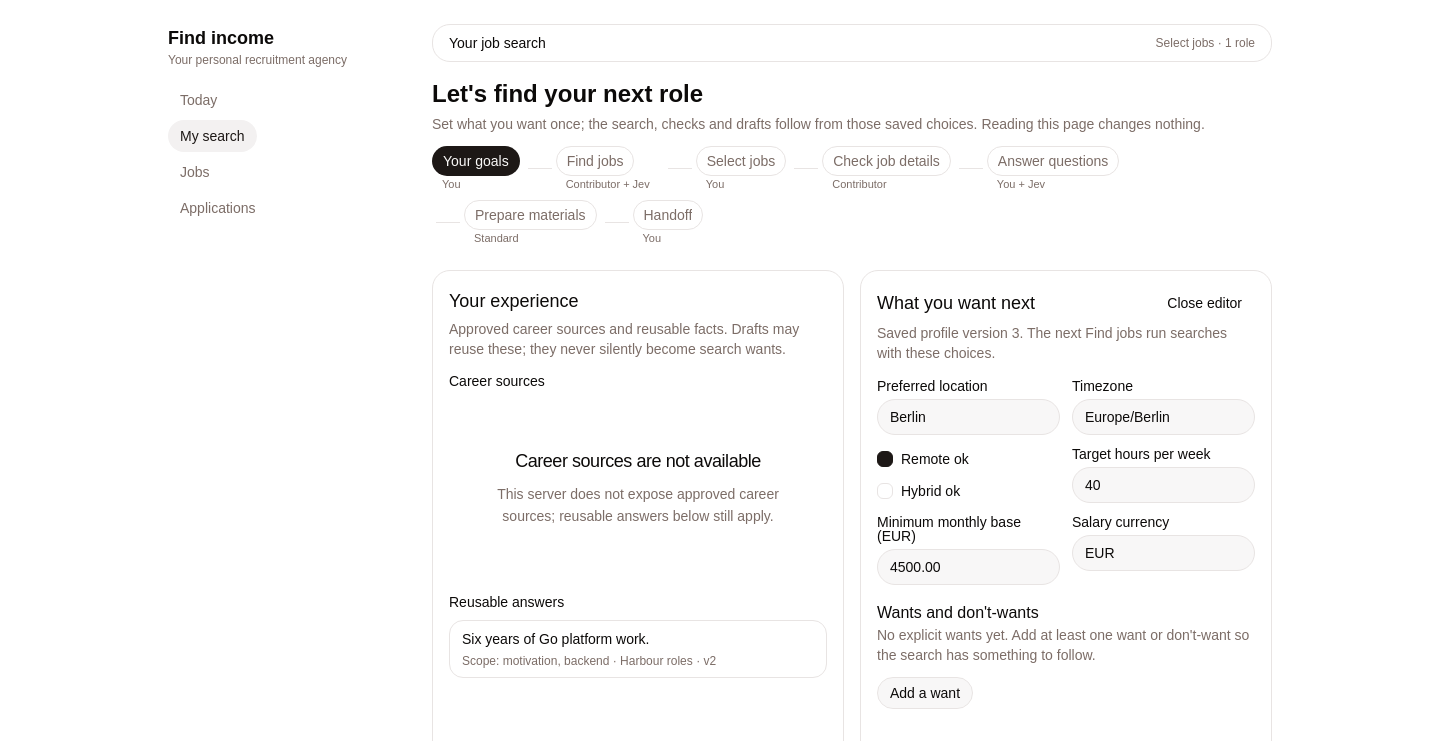
goals form and experience (B2) › adds a don't-want without retyping experience
Expected: the text "Six years of Go platform work." is shown, left=462, top=631, right=650, bottom=647
Click the button "Add a want".
click(925, 692)  # box left=877, top=676, right=973, bottom=708
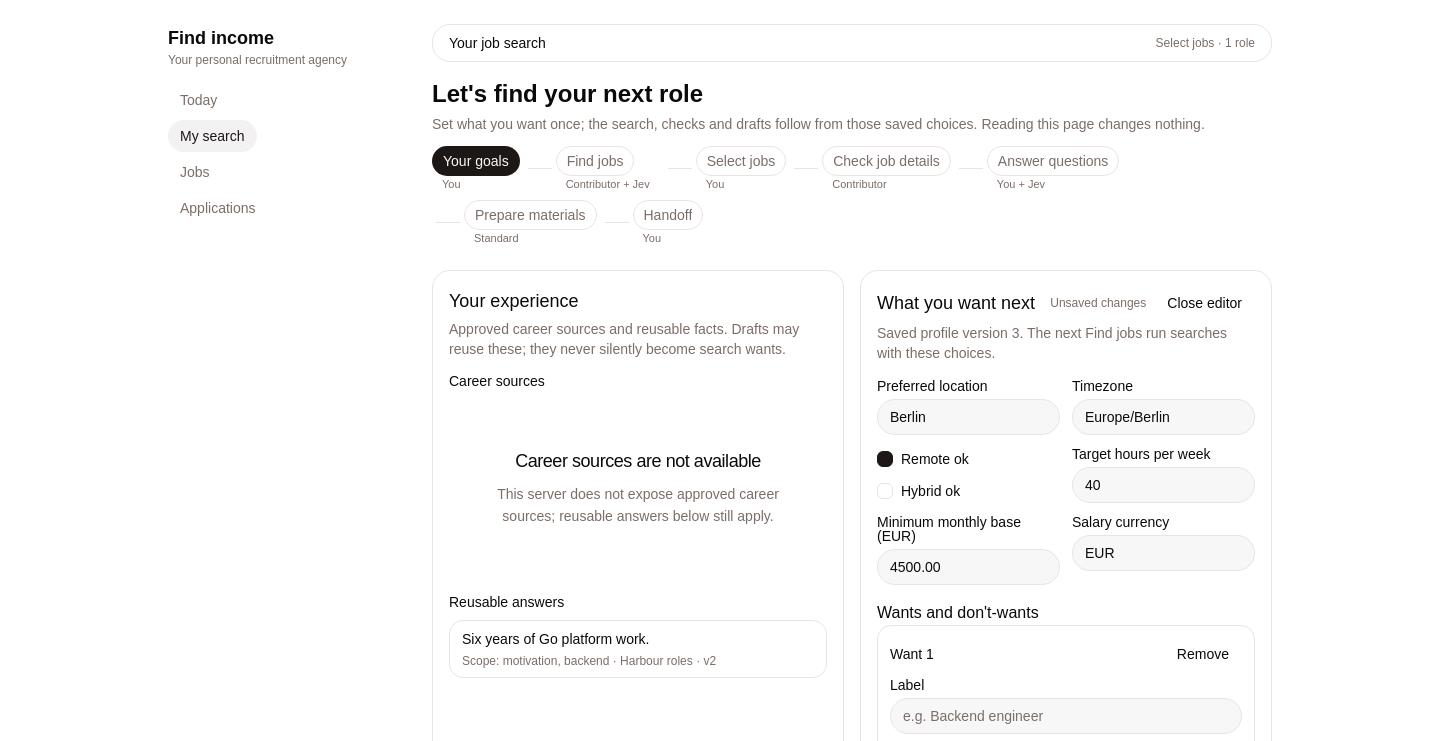
Type "Night shifts" into the field with placeholder "e.g. Backend engineer".
click(1066, 716); type("Night shifts")  # box left=890, top=698, right=1242, bottom=734
(page scrolled)
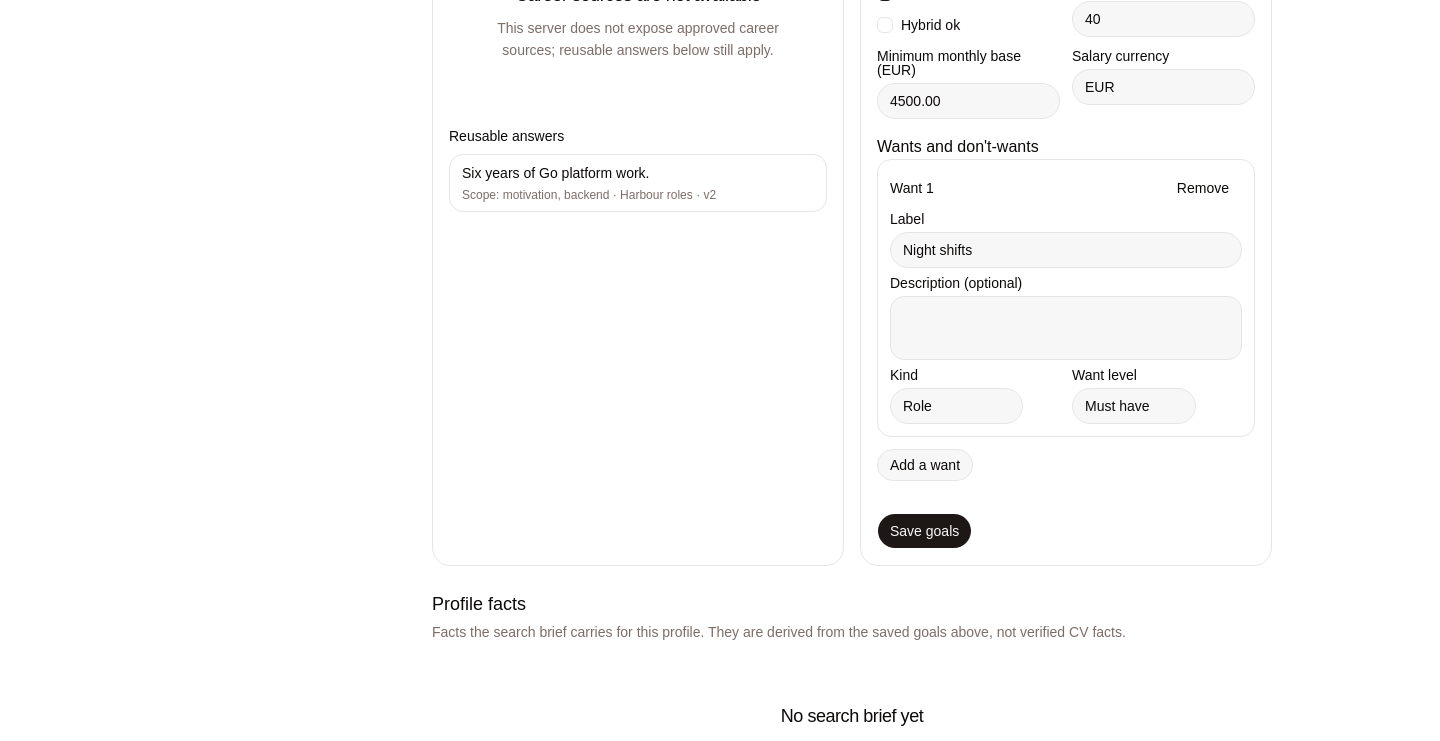
Select "Don't want" in the dropdown labelled "Want level" at (1134, 406), box left=1072, top=388, right=1196, bottom=424
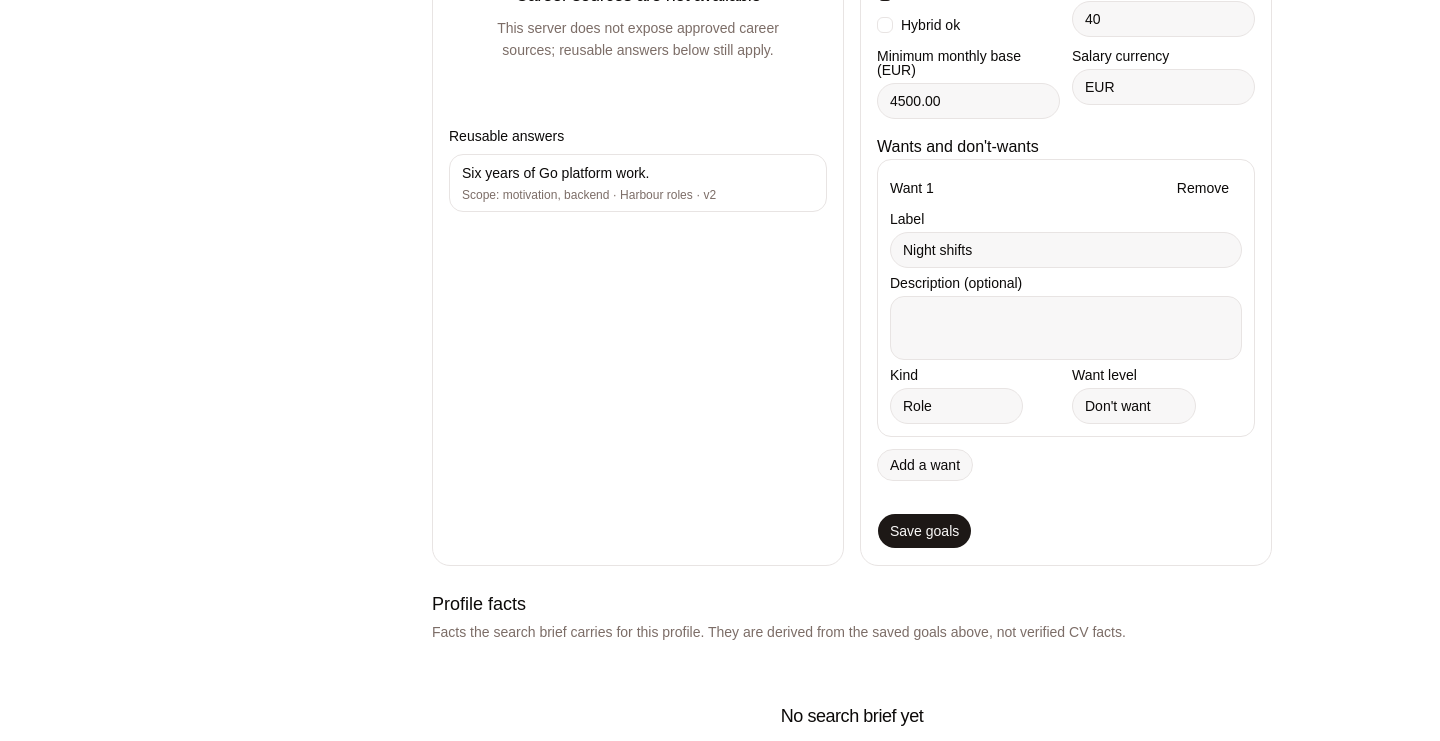
Click the button "Save goals".
click(925, 530)  # box left=877, top=512, right=972, bottom=548
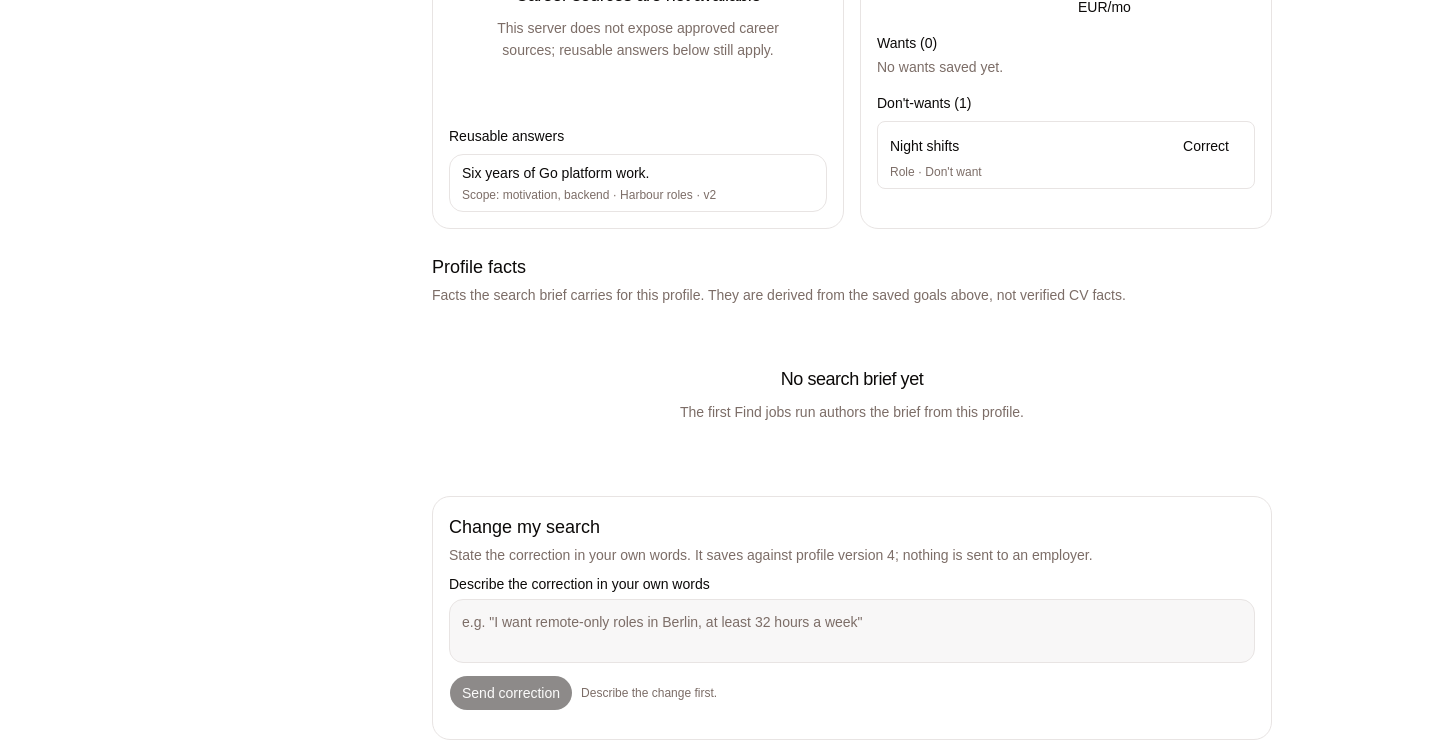
Now the text "Night shifts" is shown, box left=890, top=136, right=959, bottom=156
